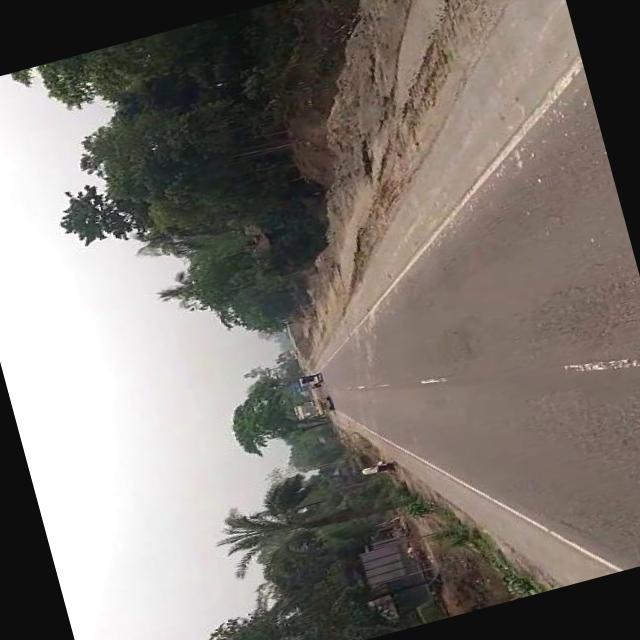bus: (290, 393, 334, 421), (294, 369, 322, 386), (280, 345, 299, 361)
truck: (287, 376, 319, 393)
